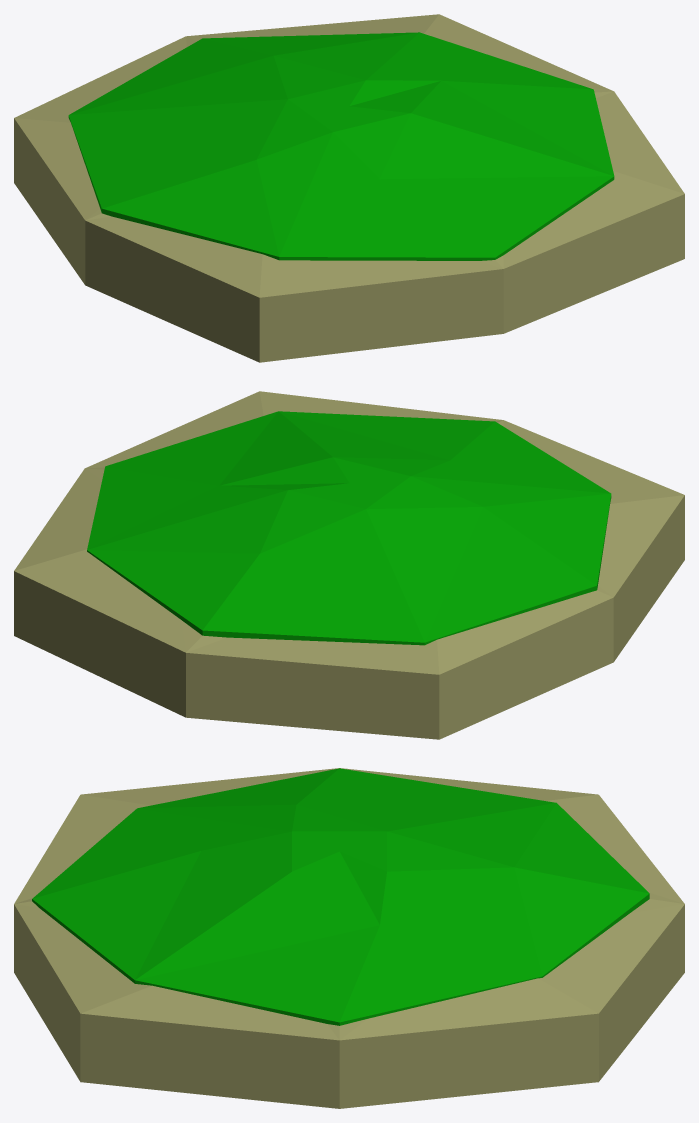
Rendered from terrain.fbx.
The picture shows the model from 3 angles, top to bottom: view 1: azimuth 30°, elevation 25°; view 2: azimuth 150°, elevation 25°; view 3: azimuth 270°, elevation 25°; orthographic projection. The views are drawn at different scales.
Visible parts, largest first — view 1: Cube.001, Cube; view 2: Cube.001, Cube; view 3: Cube.001, Cube.
Boxes of the visible parts, box(x1,y1,x2,y2) form: Cube.001: box(68, 32, 614, 260); Cube: box(14, 14, 684, 362); Cube.001: box(87, 411, 611, 645); Cube: box(14, 391, 684, 739); Cube.001: box(32, 768, 649, 1025); Cube: box(14, 768, 684, 1108).
Bounding box in the file's own units: 853 × 177 × 888.
